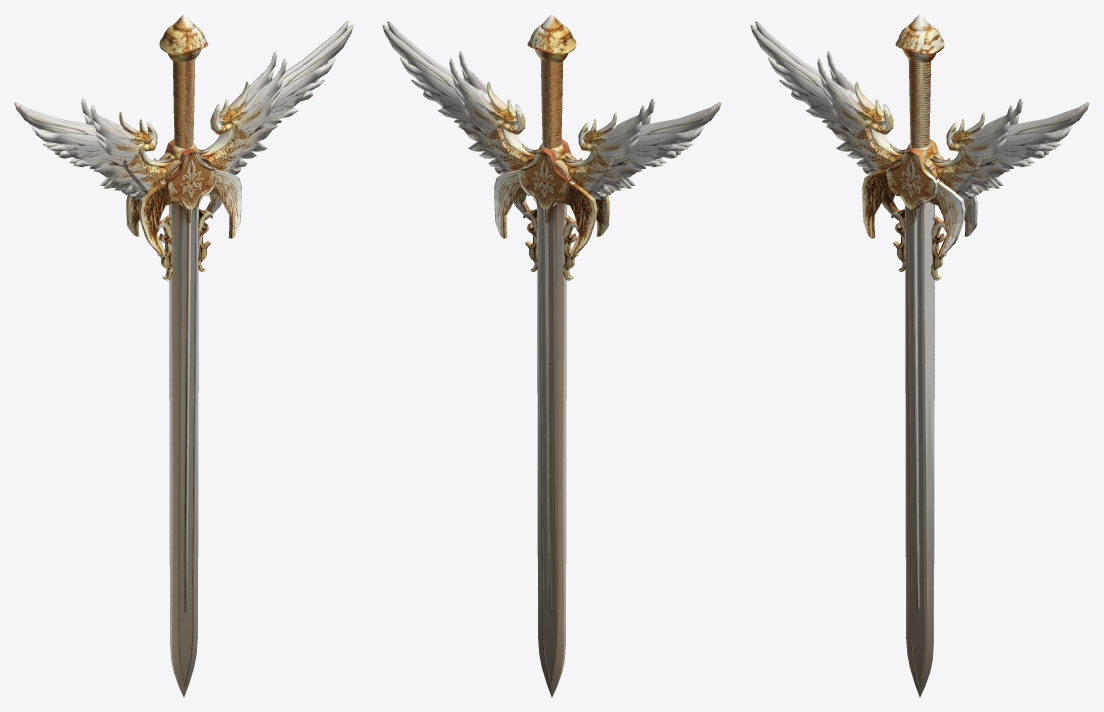
The model's file is Альянс Ангелов.gltf.
3 renders of one model, left to right at view 1: azimuth 30°, elevation 25°; view 2: azimuth 150°, elevation 25°; view 3: azimuth 330°, elevation 25°, orthographic.
Visible parts, largest first — view 1: Cube.005; view 2: Cube.005; view 3: Cube.005.
Boxes of the visible parts, box(x1,y1,x2,y2) form: Cube.005: box(14, 14, 353, 697); Cube.005: box(382, 14, 721, 697); Cube.005: box(750, 14, 1089, 697).
Size of the model in its own units: 2.93 by 5.72 by 0.4418.
Materials: 1 (1 with a texture image).
